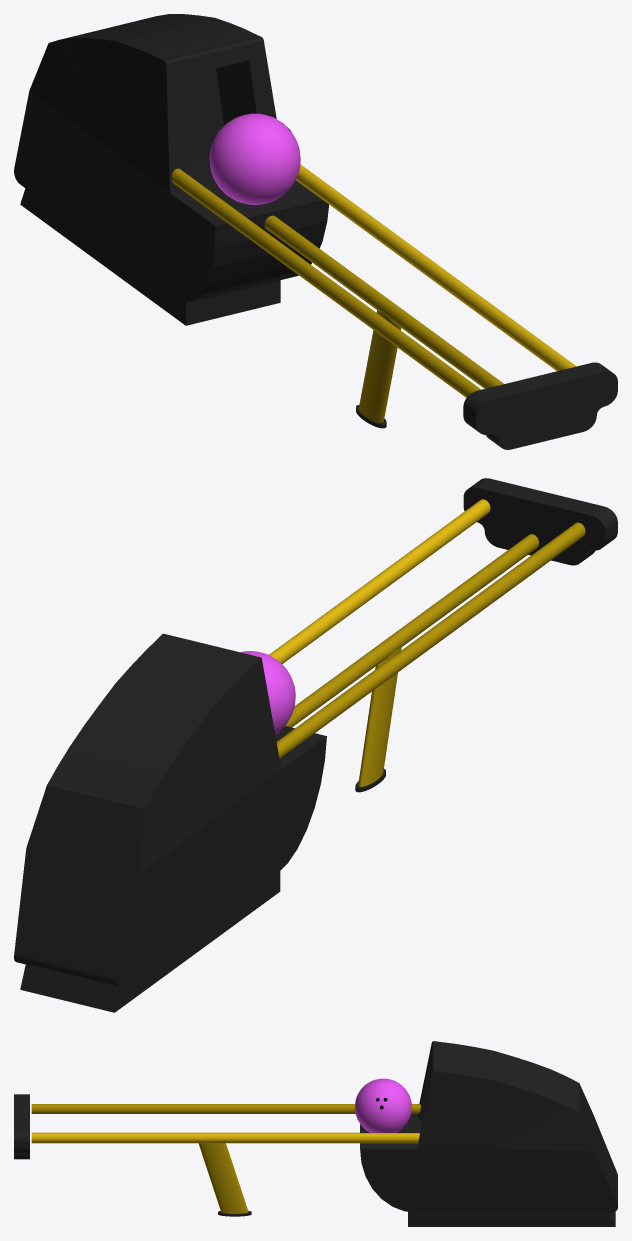
File: BallReturner.fbx
3 views of the same model, one above another, from view 1: azimuth 30°, elevation 25°; view 2: azimuth 150°, elevation 25°; view 3: azimuth 270°, elevation 25° (orthographic). The views are drawn at different scales.
Visible parts, largest first — view 1: Cube.003, Sphere; view 2: Cube.003, Sphere; view 3: Cube.003, Sphere.
Boxes of the visible parts, box(x1,y1,x2,y2) form: Cube.003: box(14, 14, 617, 449); Sphere: box(209, 113, 300, 204); Cube.003: box(14, 478, 617, 1012); Sphere: box(240, 651, 295, 734); Cube.003: box(14, 1041, 617, 1226); Sphere: box(354, 1078, 411, 1132).
Size of the model in its own units: 38.98 by 66.35 by 229.
